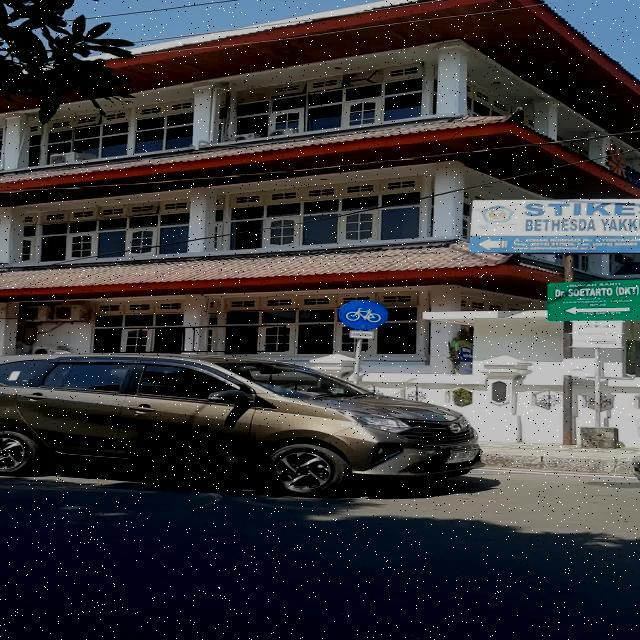Jalur Sepeda: (339, 300, 389, 330)
